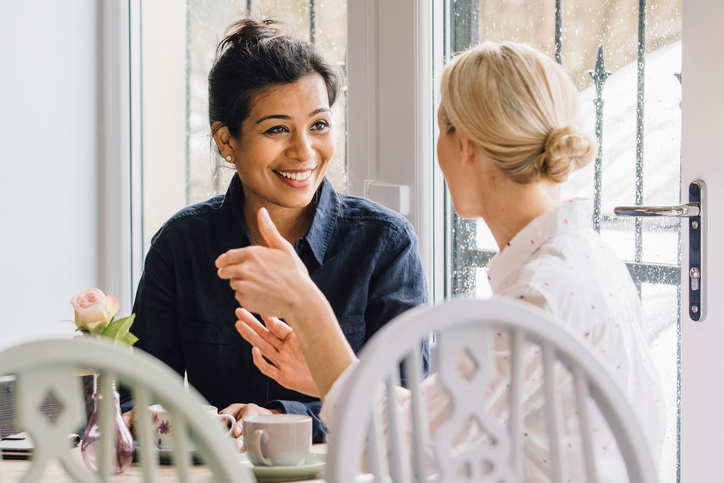person: (426, 37, 622, 298), (194, 30, 364, 273)
